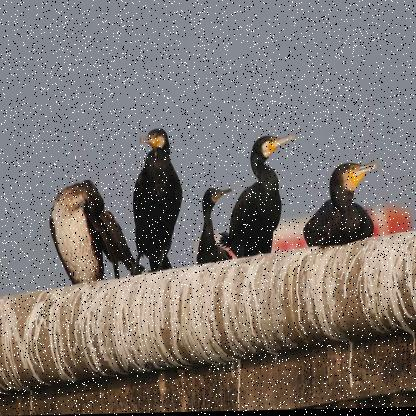Burung: (225, 134, 298, 259), (129, 129, 180, 284), (301, 164, 387, 251), (48, 180, 104, 293), (196, 184, 234, 267)
